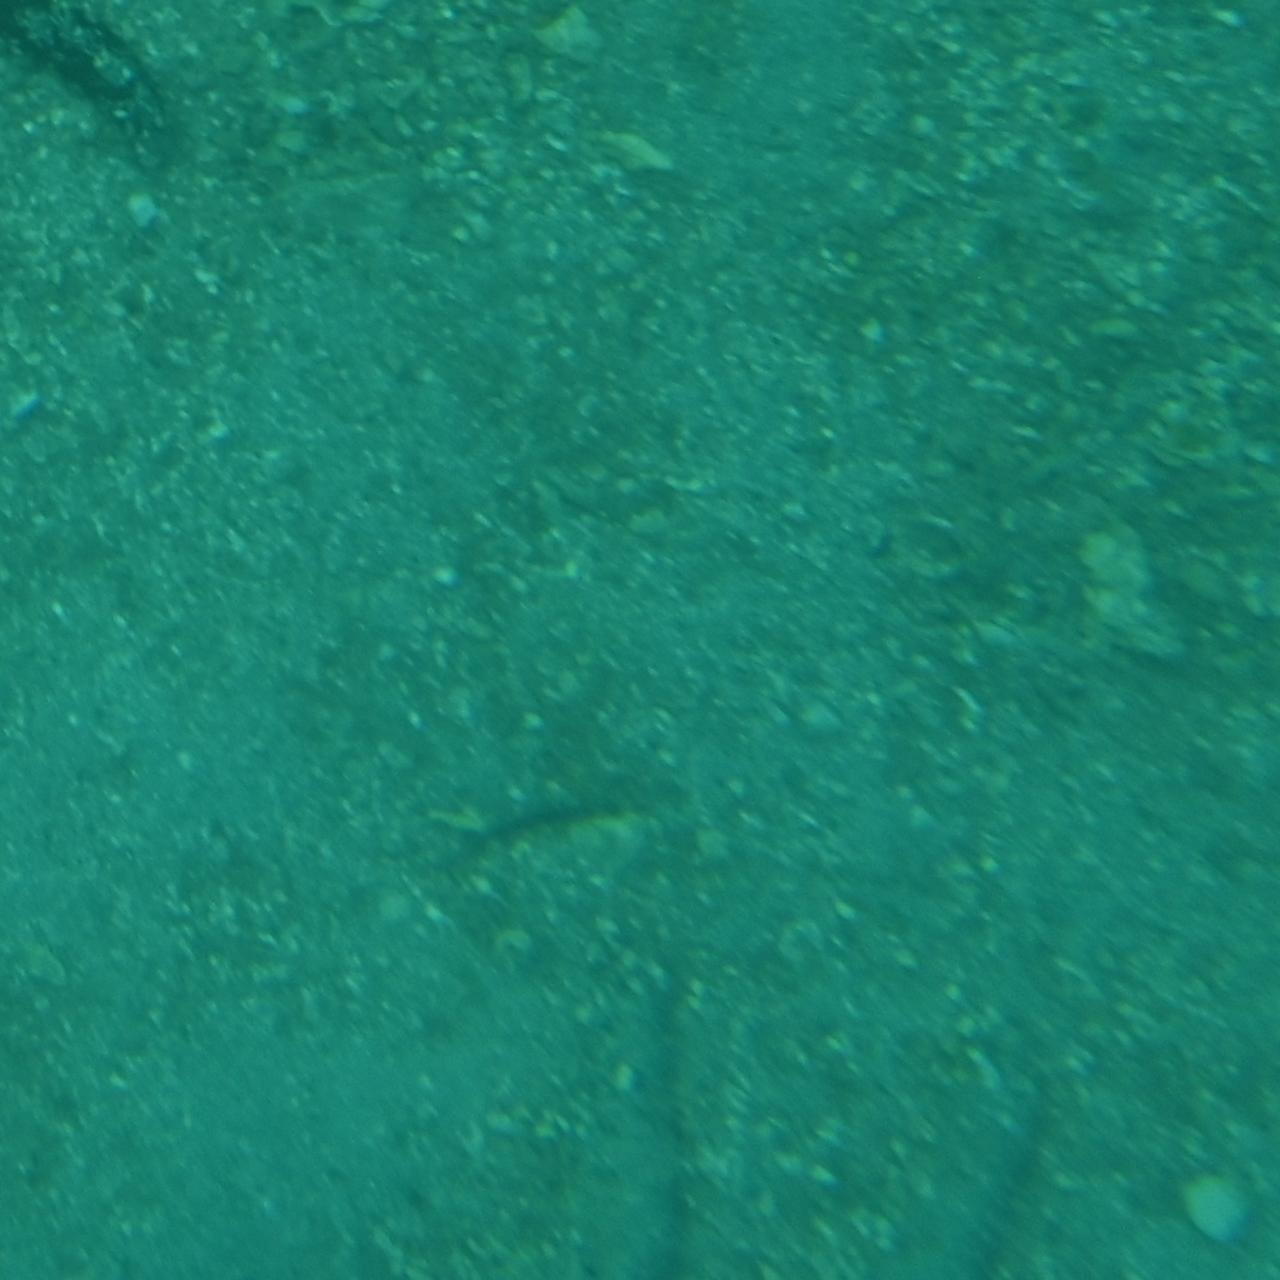Holothuria tubulosa: (558, 990, 722, 1280)
